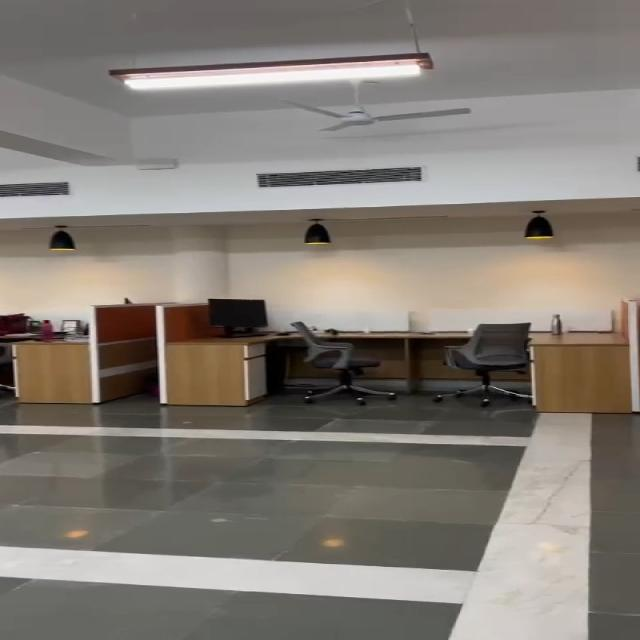floor: (0, 403, 640, 640)
furniture: (435, 307, 537, 416), (284, 302, 371, 408), (0, 300, 80, 391)
wall: (0, 150, 640, 299)
